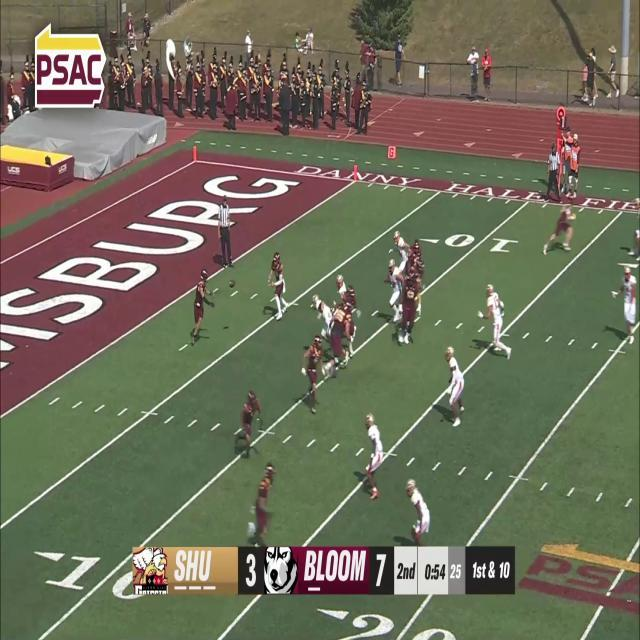football: (229, 279, 236, 289)
